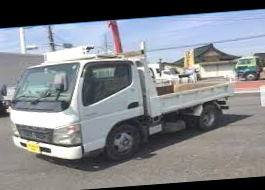truck: (4, 36, 233, 170)
